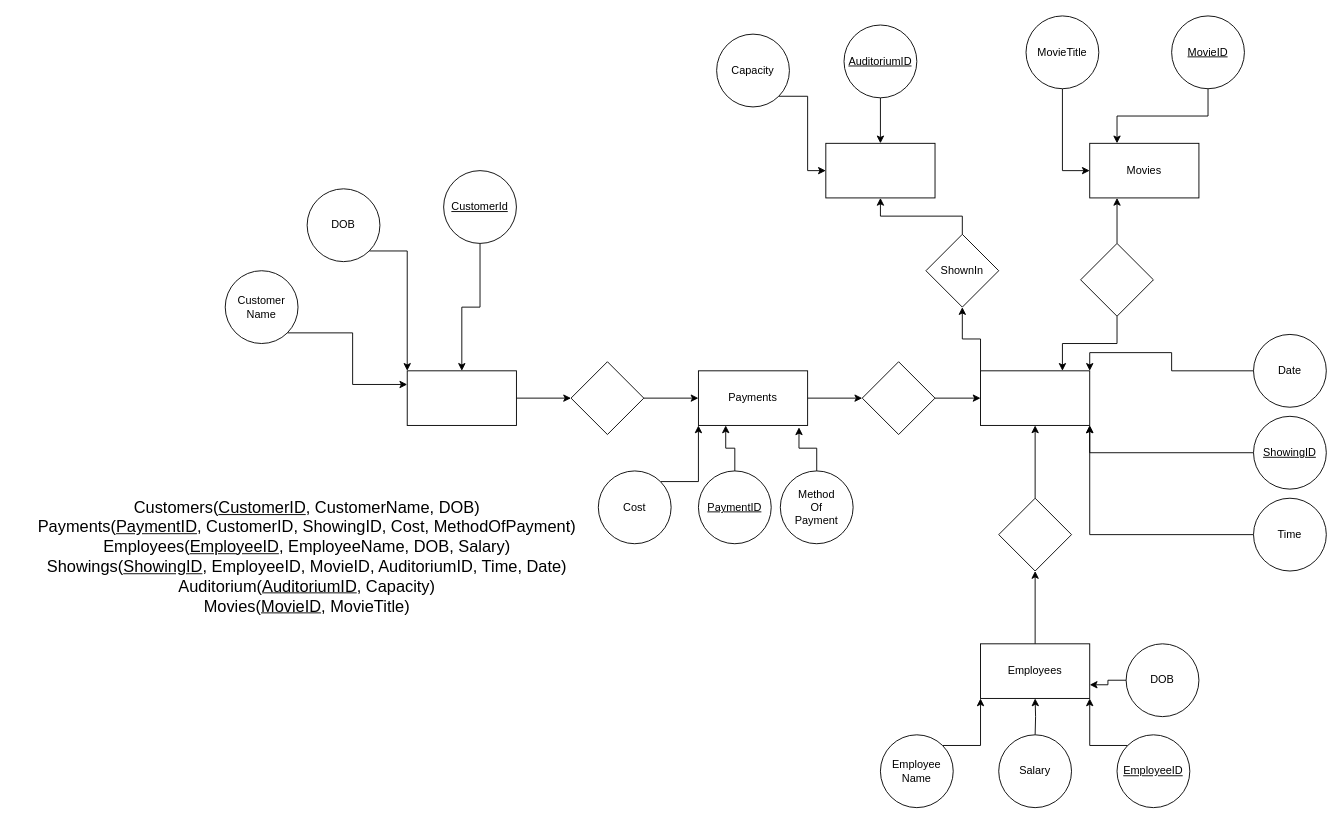
Image size: 1342x824. Some labels were removed from this diagram. Here are the shapes that lost their labels. From the top down, the box of each, then its label:
(825, 142, 935, 198): Auditoriums
(1080, 243, 1153, 316): Playing
(406, 370, 516, 425): Customers
(570, 361, 644, 435): Makes
(861, 361, 935, 435): For
(980, 370, 1090, 425): Showings
(998, 497, 1072, 571): Schedules
